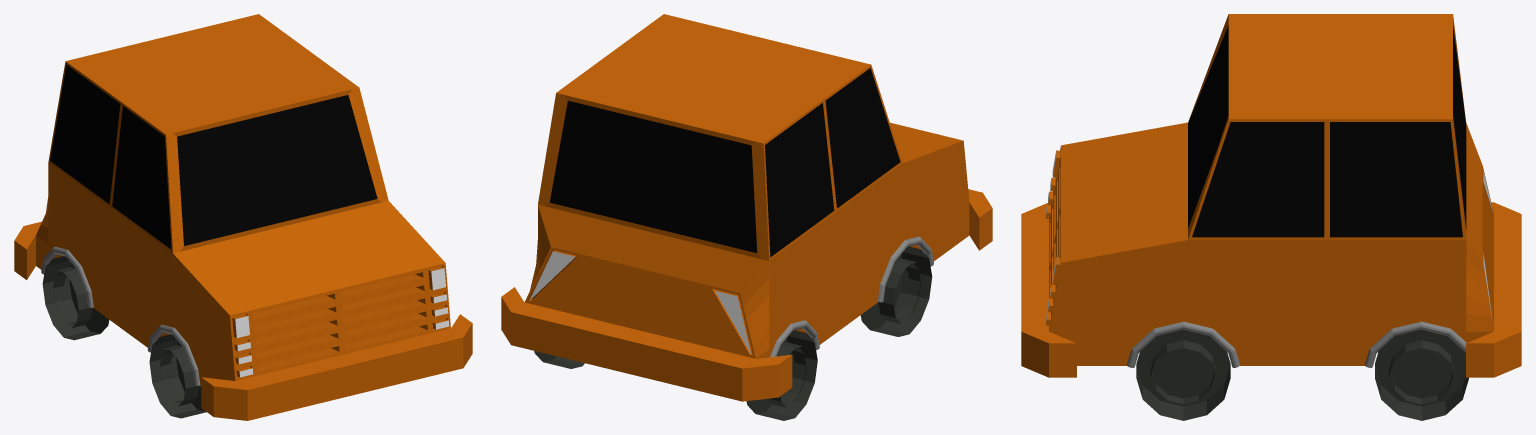
File: car2.fbx
3 renders of one model, left to right at view 1: azimuth 30°, elevation 25°; view 2: azimuth 150°, elevation 25°; view 3: azimuth 270°, elevation 25°, orthographic. The views are drawn at different scales.
Visible parts, largest first — view 1: car; view 2: car; view 3: car.
Part boxes in pixels (x1,y1,x2,y2): car: (14,14,472,420); car: (501,14,992,420); car: (1021,14,1521,420).
Size of the model in its own units: 240 by 233 by 360.
